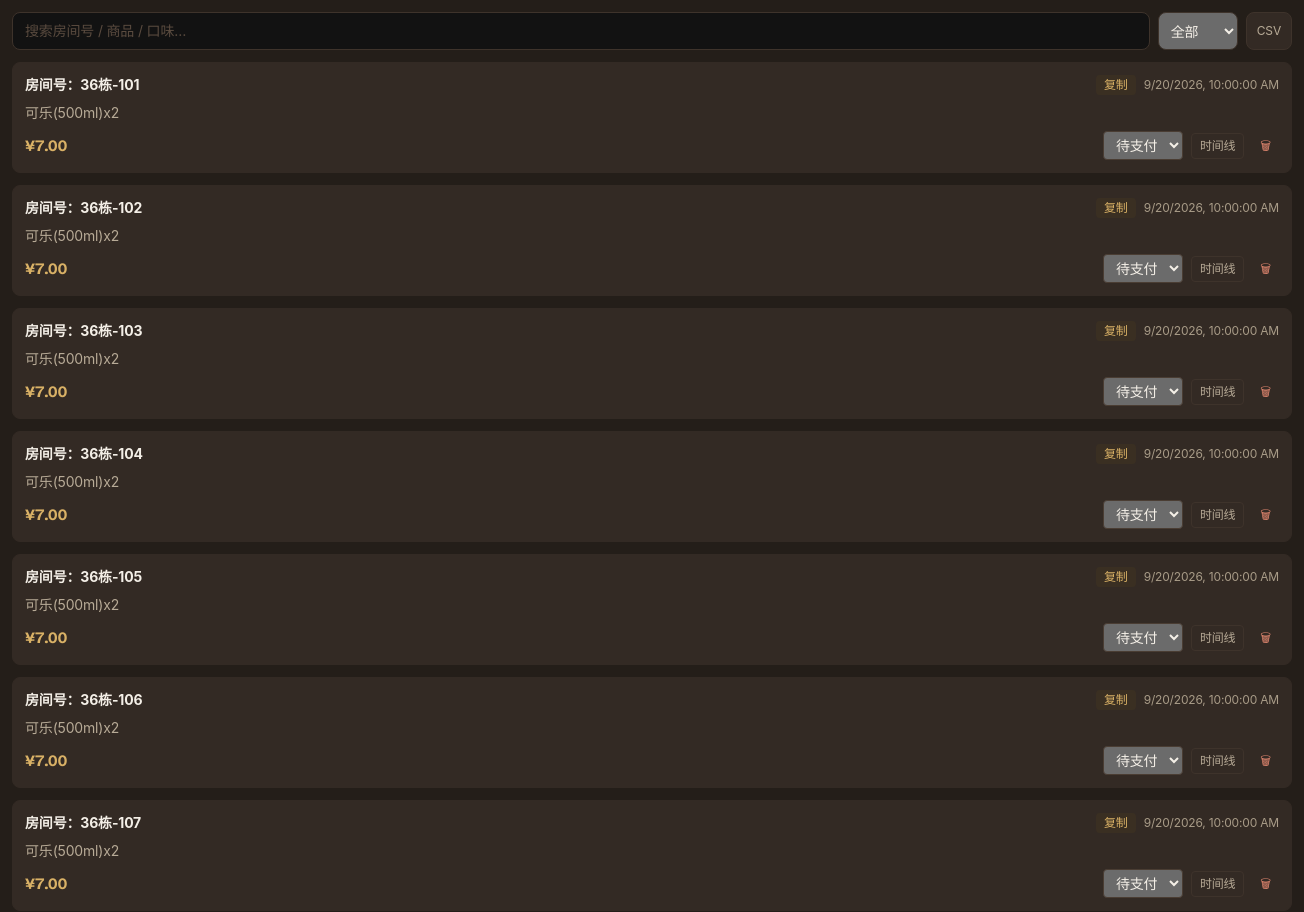
筛选与分页 › 按房间号搜索实时过滤，并把页码复位到第 1 页
Type "特殊" into the search field named "按房间号、商品或口味搜索订单". click: (581, 31)
box: [12,12,1150,50]
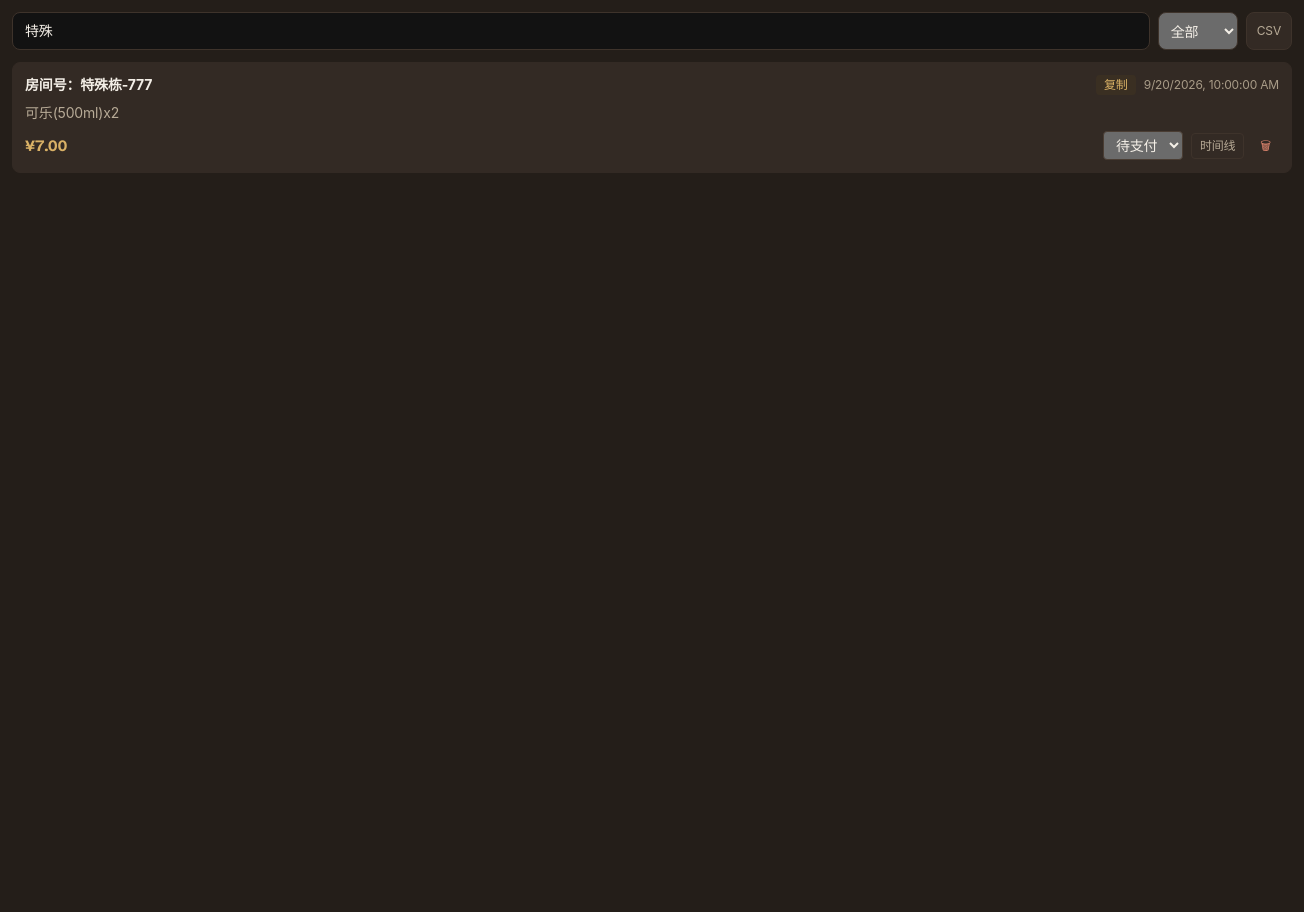
Expected: the text "房间号：特殊栋-777" is shown, [25,75,152,95]
